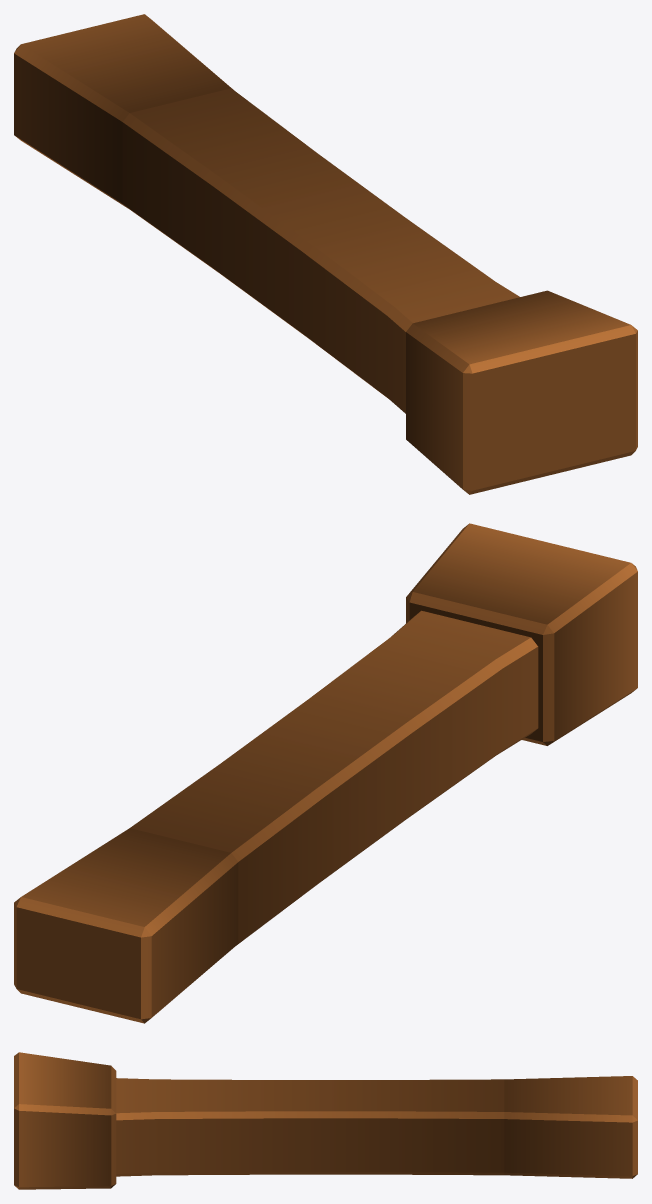
Rendered from Hook-2.fbx.
3 renders of one model, top to bottom at view 1: azimuth 30°, elevation 25°; view 2: azimuth 150°, elevation 25°; view 3: azimuth 270°, elevation 25°, orthographic. The views are drawn at different scales.
Visible parts, largest first — view 1: Hook-2; view 2: Hook-2; view 3: Hook-2.
Part boxes in pixels (x1,y1,x2,y2): Hook-2: (14, 14, 637, 494); Hook-2: (14, 523, 637, 1023); Hook-2: (14, 1052, 637, 1189).
Bounding box in the file's own units: 46.65 × 34.41 × 219.
